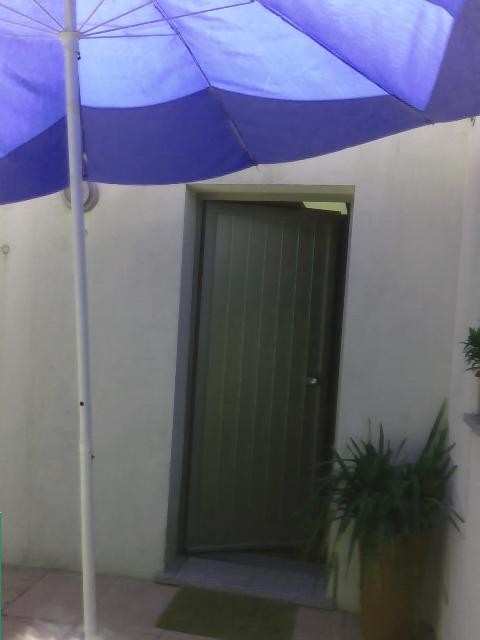semi_door: (163, 181, 358, 580)
